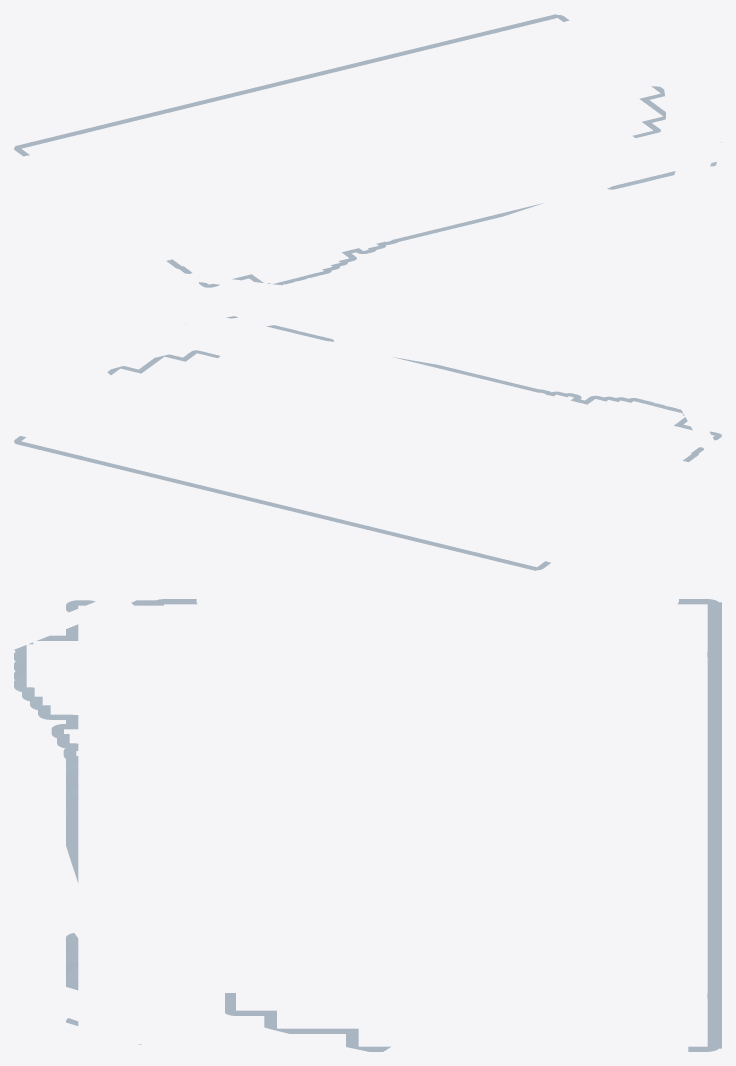
File: SM_MPRSC_MPRR_CampusGreen.fbx
The picture shows the model from 3 angles, top to bottom: view 1: azimuth 30°, elevation 25°; view 2: azimuth 150°, elevation 25°; view 3: azimuth 270°, elevation 25°; orthographic projection. The views are drawn at different scales.
Visible parts, largest first — view 1: SM_MPRSC_MPRR_CampusGreen; view 2: SM_MPRSC_MPRR_CampusGreen; view 3: SM_MPRSC_MPRR_CampusGreen.
Boxes of the visible parts, x1,y1,x2,y2 form: SM_MPRSC_MPRR_CampusGreen: [14, 14, 721, 287]; SM_MPRSC_MPRR_CampusGreen: [14, 316, 721, 570]; SM_MPRSC_MPRR_CampusGreen: [14, 599, 721, 1051].
Bounding box in the file's own units: 40014 × 26439 × 127.
